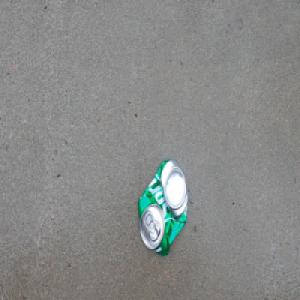SodaCan: (136, 157, 189, 259)
